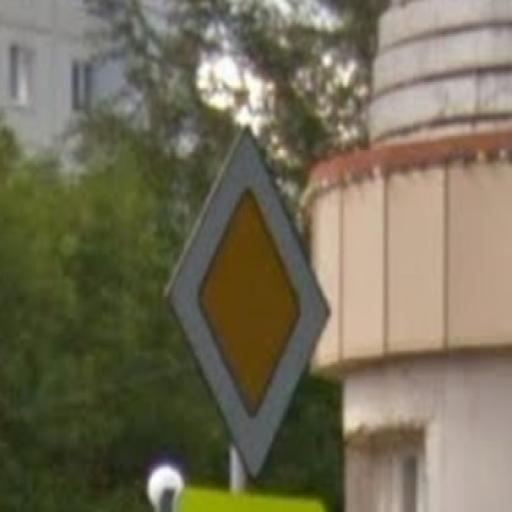traffic_sign: (162, 123, 334, 484)
